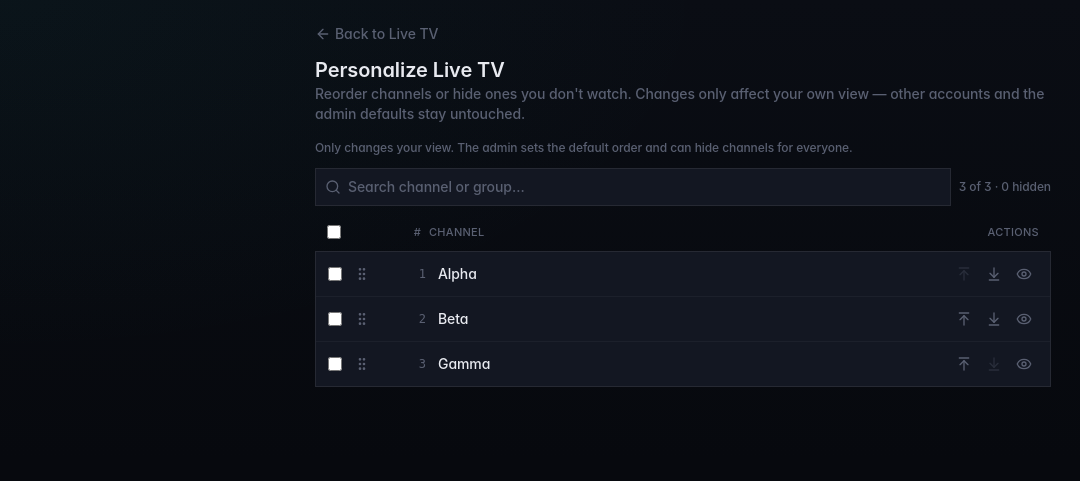
Scenario: LiveTvCustomize › disables Save until the draft is dirty
Click the button named "Hide for me" in the row of "Alpha": (1024, 274) [1010,260,1038,288]
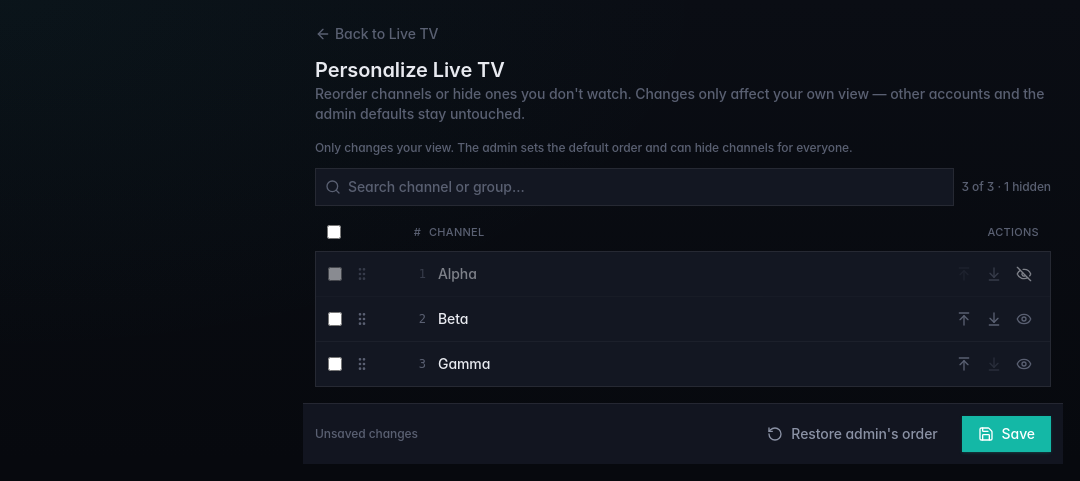
Expected: the button "Save" is enabled, [962,416,1051,452]
